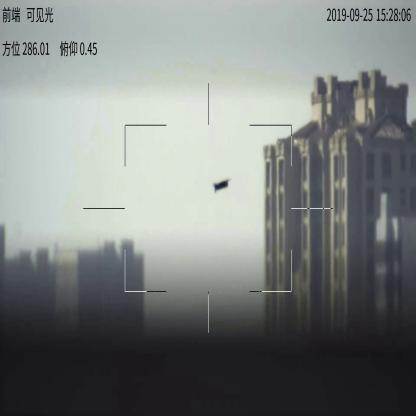uav: (212, 178, 228, 191)
